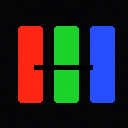3 line_h: (34, 65, 92, 69)
